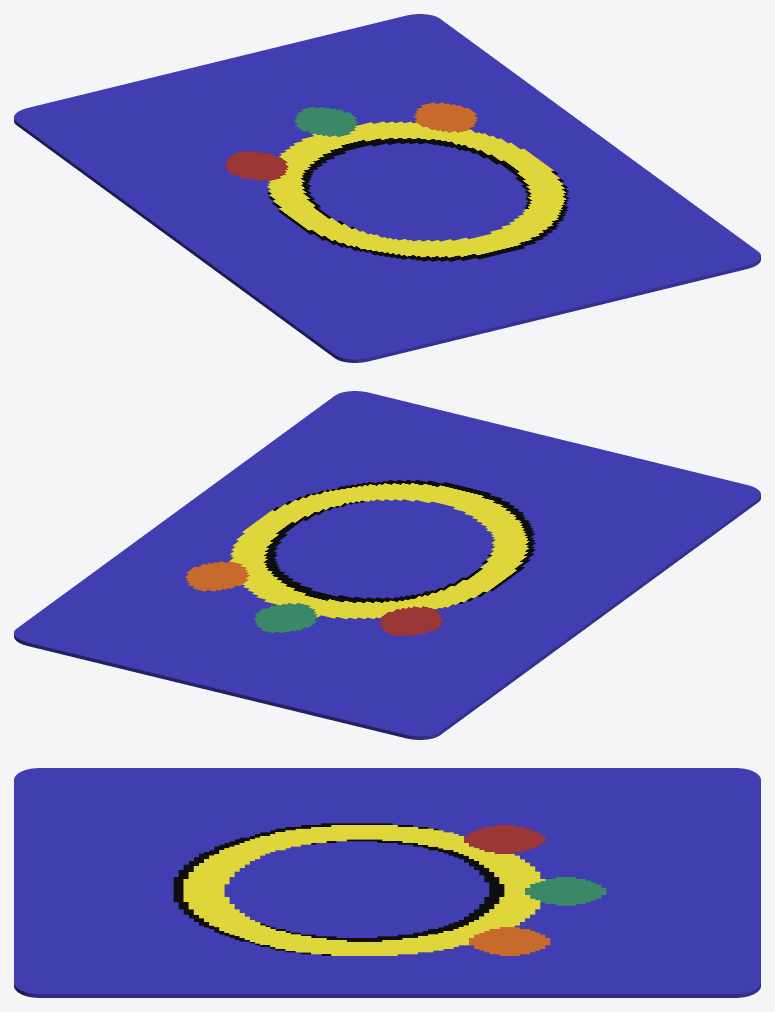
The model's file is Card.fbx.
The picture shows the model from 3 angles, top to bottom: view 1: azimuth 30°, elevation 25°; view 2: azimuth 150°, elevation 25°; view 3: azimuth 270°, elevation 25°; orthographic projection. The views are drawn at different scales.
Parts seen in each view (by area): view 1: Cube, Plane; view 2: Cube, Plane; view 3: Cube, Plane.
Boxes of the visible parts, <box> form: Cube: <box>14,14,760,362</box>; Plane: <box>224,102,569,261</box>; Cube: <box>14,391,760,739</box>; Plane: <box>185,480,535,636</box>; Cube: <box>14,768,760,997</box>; Plane: <box>173,823,606,955</box>.
Bounding box in the file's own units: 63 × 0.55 × 88.
2 materials, 1 textured.
